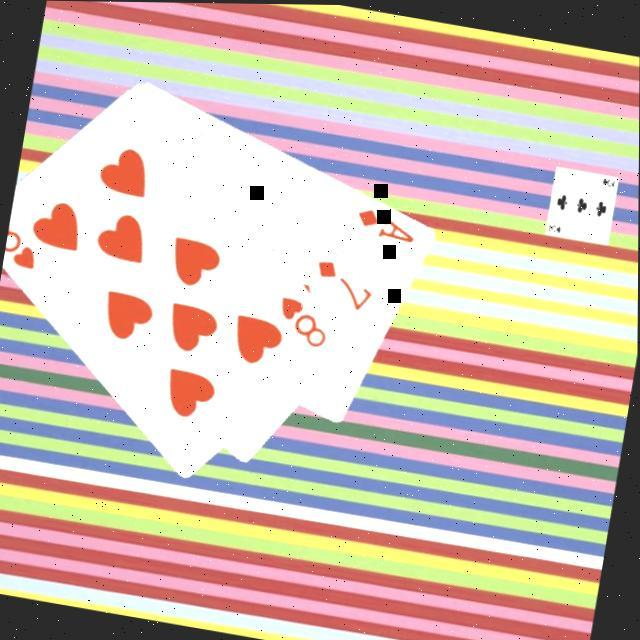7D: (310, 252, 381, 314)
8H: (273, 289, 339, 351), (3, 215, 49, 273)
AD: (354, 200, 425, 245)
